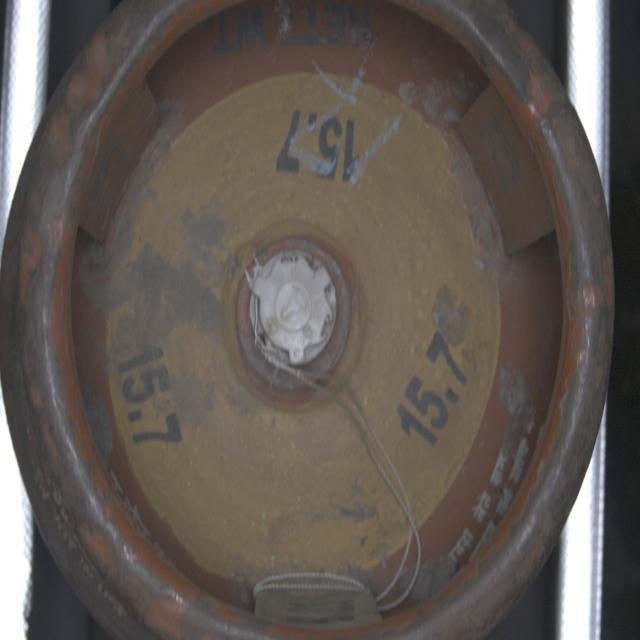Cap: (248, 247, 338, 373)
